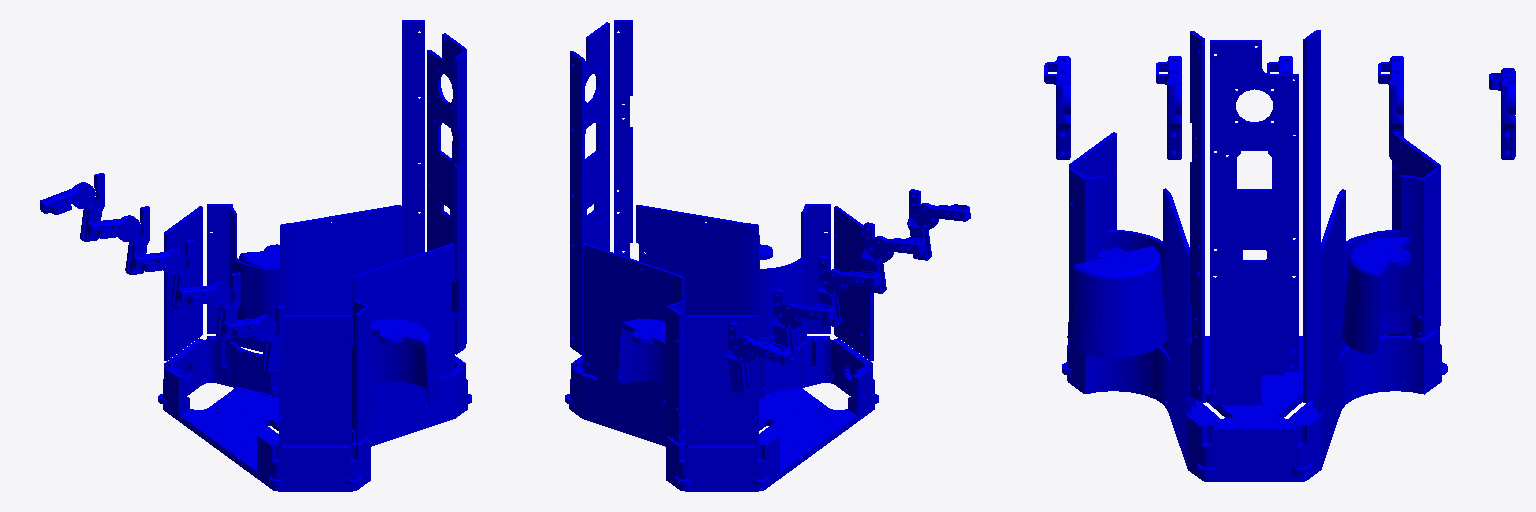
robot.urdf — secondary_robot:
<?xml version="1.0"?>
<robot name="secondary_robot">
  <material name="blue">
    <color rgba="0 0 1 0.8"/>
  </material>

  <material name="transp">
    <color rgba="0 1 0 0.1"/>
  </material>

  <link name="secondary_robot">

    <visual>
      <origin xyz="-0.181064 -0.161895 0" rpy="0 0 0" />
      <geometry>
        <mesh
          filename="package://eurobot_localization/models/FATBOY_low_quality.STL" scale="0.001 0.001 0.001" />
      </geometry>
      <material name="blue"/>
    </visual>
    <collision>
      <origin xyz="0 0 0" rpy="0 0 0" />
      <geometry>
        <mesh
          filename="package://eurobot_localization/models/FATBOY_low_quality.STL" scale="0.001 0.001 0.001" />
      </geometry>
    </collision>

  </link>

</robot>

--- Facts derived from the render (not from the file) ---
3 views of the same robot in one strip: view 1: azimuth 30°, elevation 25°; view 2: azimuth 150°, elevation 25°; view 3: azimuth 270°, elevation 25° (orthographic).
Model secondary_robot with 1 links and 0 joints (none), rooted at secondary_robot, posed all joints at 0.
Visible links, largest first — view 1: secondary_robot; view 2: secondary_robot; view 3: secondary_robot.
Link boxes in pixels (<box>): secondary_robot: <box>40,20,471,491</box>; secondary_robot: <box>565,20,970,491</box>; secondary_robot: <box>1044,30,1515,481</box>.
Bounding box of the posed robot: 0.2937 × 0.3177 × 0.3275 m (x, y, z).
1 mesh visuals loaded from 1 distinct referenced files (1 binary STL).